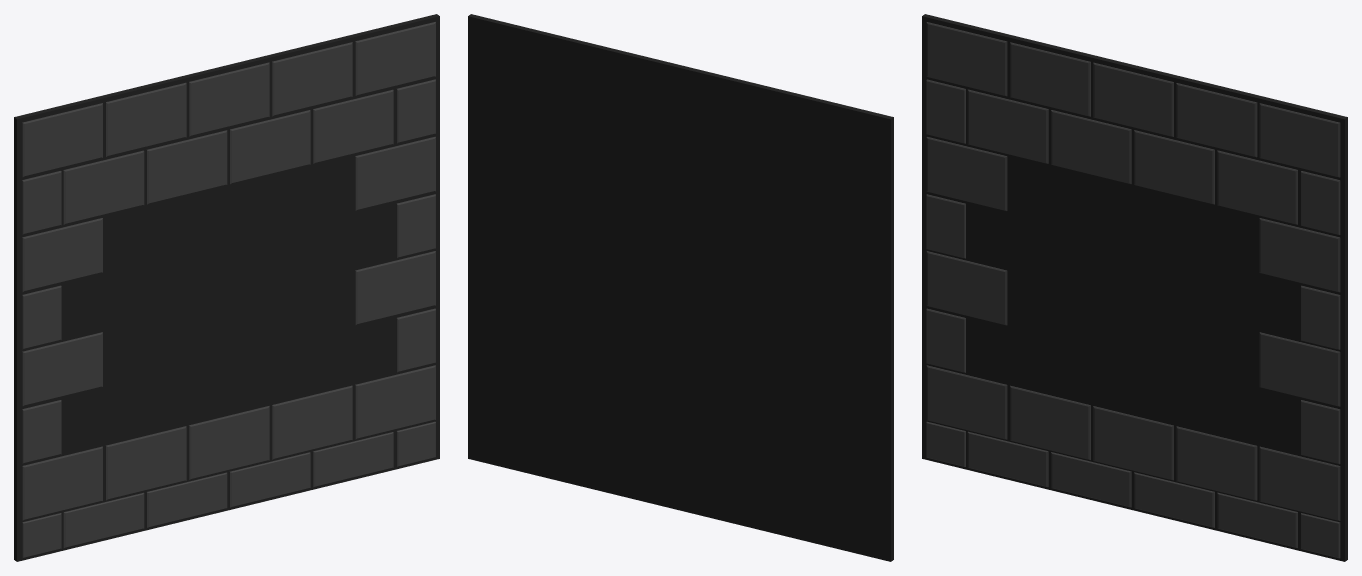
The model's file is Wall_3.fbx.
The picture shows the model from 3 angles, left to right: view 1: azimuth 30°, elevation 25°; view 2: azimuth 150°, elevation 25°; view 3: azimuth 330°, elevation 25°; orthographic projection.
Visible parts, largest first — view 1: Plane.002; view 2: Plane.002; view 3: Plane.002.
Boxes of the visible parts, left/top/right/bottom form: Plane.002: left=14, top=14, right=439, bottom=561; Plane.002: left=468, top=14, right=893, bottom=561; Plane.002: left=922, top=14, right=1347, bottom=561.
Bounding box in the file's own units: 400 × 400 × 6.41.
Materials: 1 (1 with a texture image).
